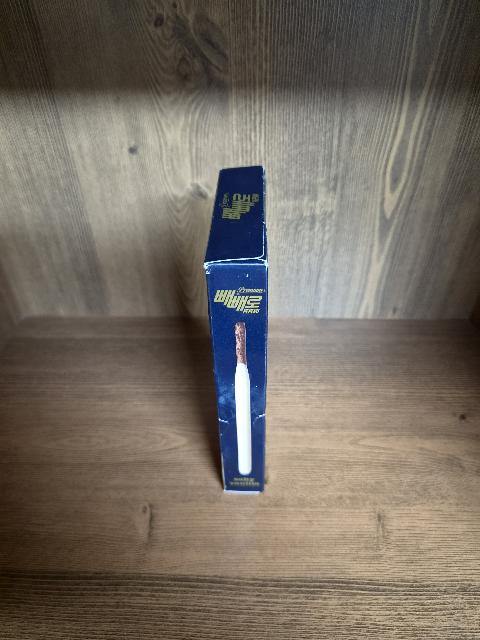pepero: (204, 165, 268, 493)
